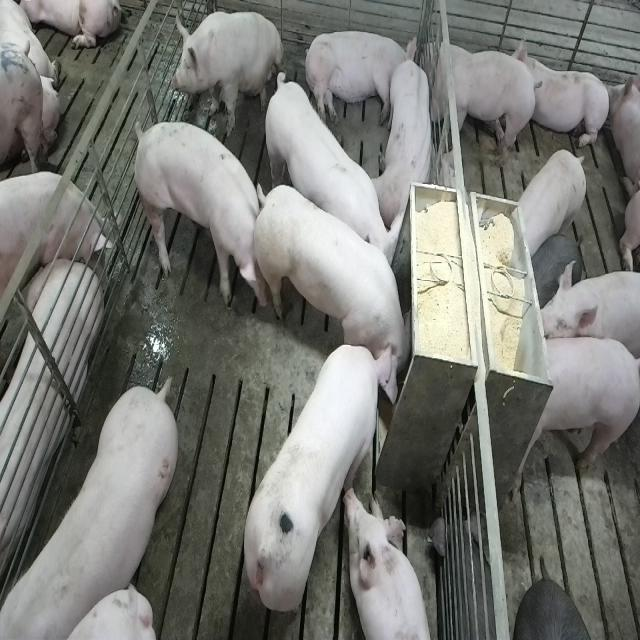Feeding: (242, 338, 400, 618), (257, 175, 420, 381)
Lateral_lying: (0, 252, 101, 609), (302, 28, 418, 127)
Sitting: (170, 8, 284, 133)
Standing: (5, 373, 182, 634), (261, 68, 399, 286), (128, 115, 258, 310), (514, 336, 638, 488), (421, 32, 541, 174), (0, 168, 114, 304), (537, 262, 640, 375), (514, 150, 588, 260)
Sternal_lying: (346, 488, 434, 640), (375, 52, 437, 230), (521, 35, 611, 151)
